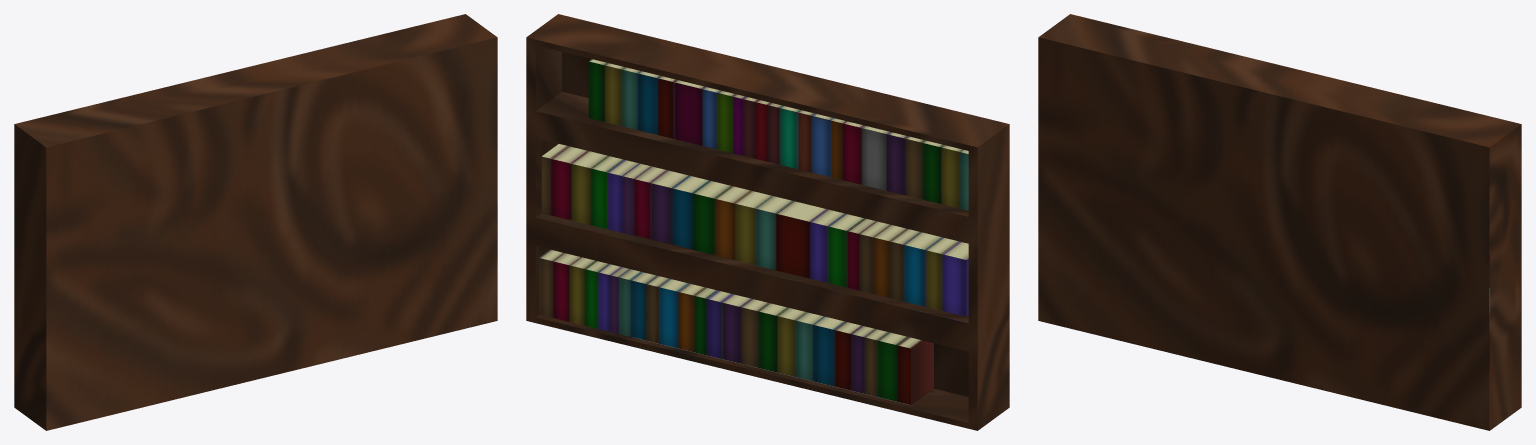
Rendered from shelving04.obj.
The picture shows the model from 3 angles, left to right: view 1: azimuth 30°, elevation 25°; view 2: azimuth 150°, elevation 25°; view 3: azimuth 330°, elevation 25°; orthographic projection.
Visible parts, largest first — view 1: Estanteria.003_Cube.032; view 2: Estanteria.003_Cube.032; view 3: Estanteria.003_Cube.032.
Boxes of the visible parts, x1,y1,x2,y2 form: Estanteria.003_Cube.032: (14, 14, 497, 430); Estanteria.003_Cube.032: (526, 14, 1009, 430); Estanteria.003_Cube.032: (1038, 14, 1521, 430).
Size of the model in its own units: 5.38 by 3.23 by 0.6579.
